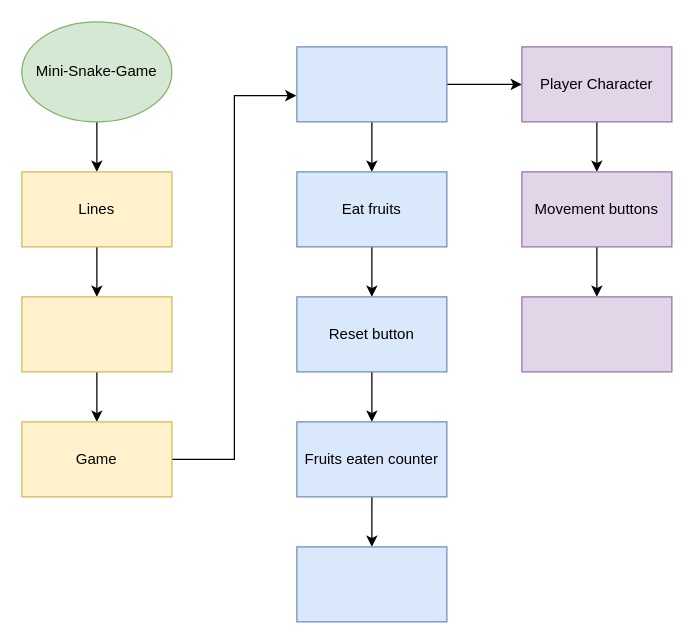
Image size: 694x644. Some labels were removed from this diagram. The centre of each missing label's shape, as x and y in pixels:
"Fruits" belongs at (96,334).
"Player" belongs at (371,84).
"Player Character Moving" belongs at (596,334).
"Timer" belongs at (371,584).
